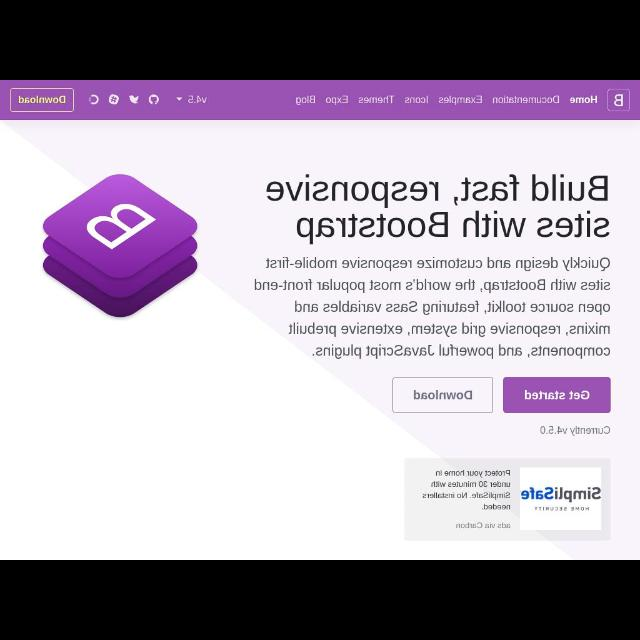icon: (146, 94, 160, 106), (128, 94, 140, 104), (88, 94, 98, 106), (109, 96, 119, 104), (176, 96, 184, 102)
image: (44, 172, 200, 316), (519, 466, 601, 530)
text: (254, 258, 610, 360), (264, 173, 610, 247), (422, 468, 512, 512), (523, 388, 591, 402), (540, 425, 610, 437), (412, 390, 472, 402), (493, 96, 559, 106), (18, 94, 66, 106), (440, 95, 484, 106), (456, 523, 512, 531), (570, 95, 600, 105), (359, 96, 395, 104), (294, 94, 318, 106), (326, 93, 348, 105), (404, 95, 430, 105), (188, 95, 206, 105), (614, 93, 624, 109)
textbutton: (503, 378, 609, 412), (393, 376, 493, 412), (11, 90, 74, 114)
toolbar: (1, 81, 639, 119)
